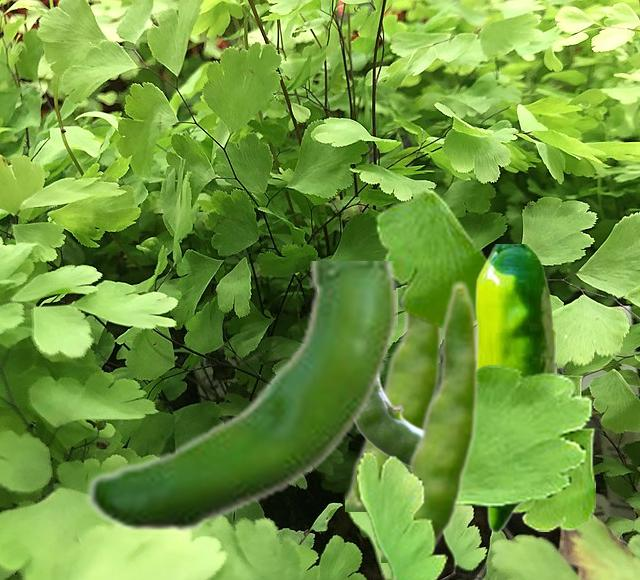green_chili: (85, 261, 396, 534), (381, 279, 479, 561), (472, 244, 555, 532), (345, 285, 438, 510), (355, 379, 419, 464)
